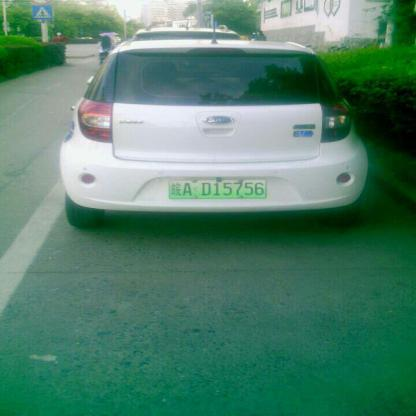lp: (169, 180, 266, 197)
